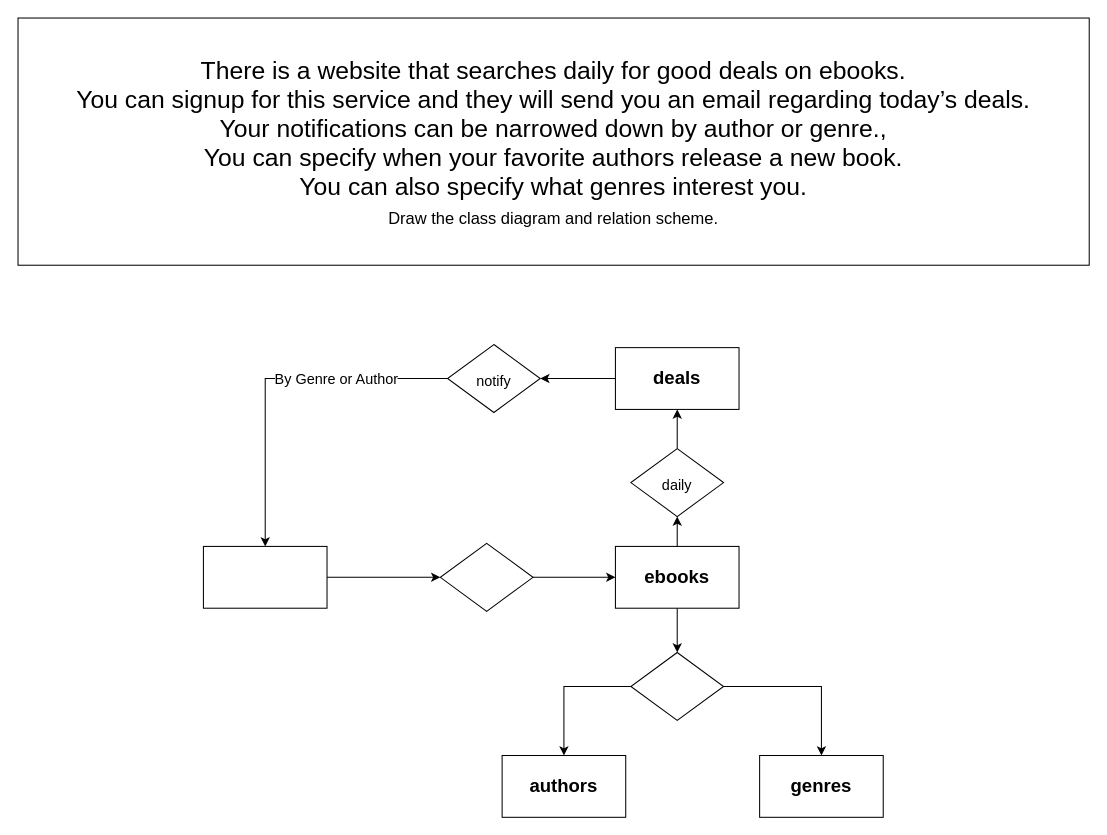
Image size: 1107x835. Some labels were removed from this diagram. The centre of each missing label's shape, as x and y in pixels:
"has" goes at point (677, 685).
"signup" goes at point (486, 576).
"users" goes at point (264, 576).
